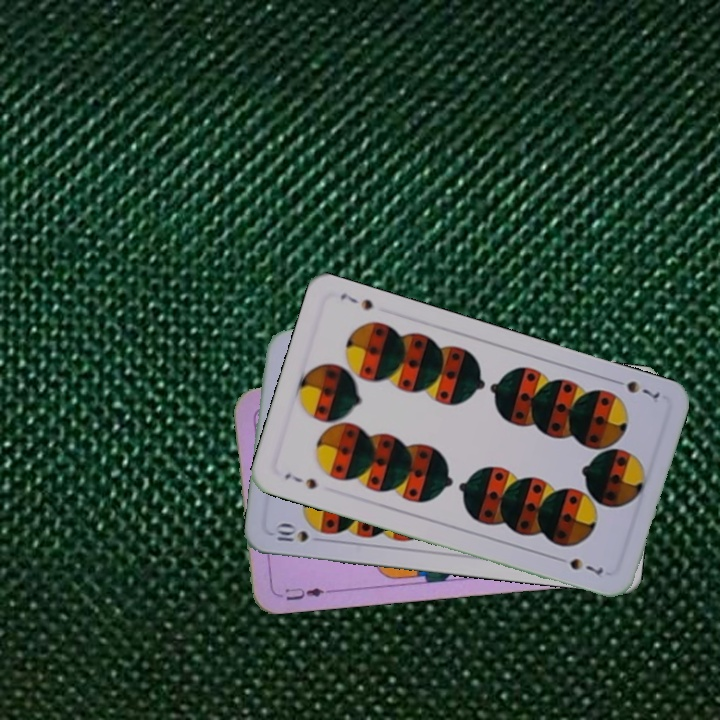EU: (280, 583, 334, 603)
S10: (270, 520, 328, 545)
S7: (608, 375, 663, 406), (280, 469, 320, 492)
